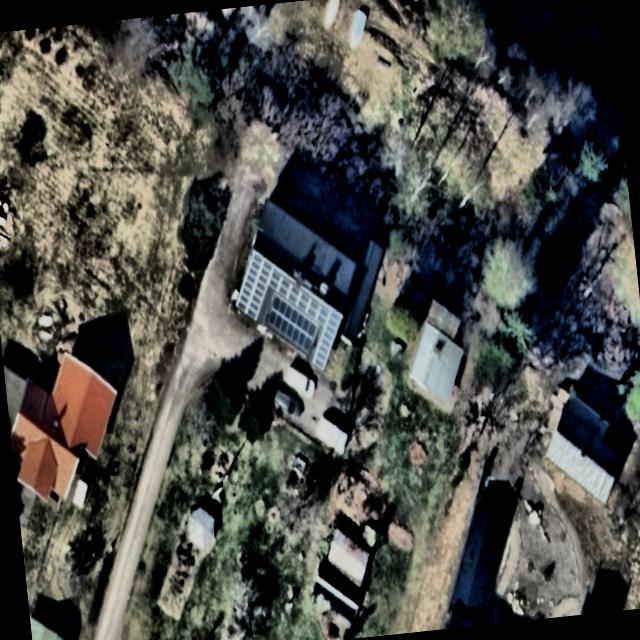roof_pv: (268, 292, 319, 356), (232, 250, 276, 324), (310, 325, 338, 375), (272, 267, 300, 313), (298, 286, 330, 324), (324, 300, 343, 328)
